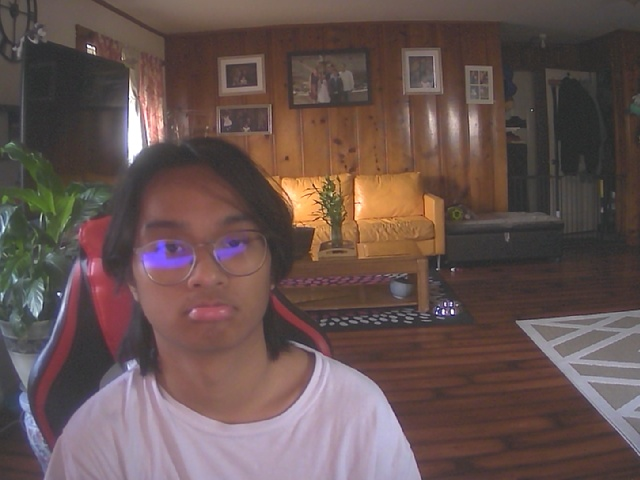sad: (127, 143, 282, 354)
